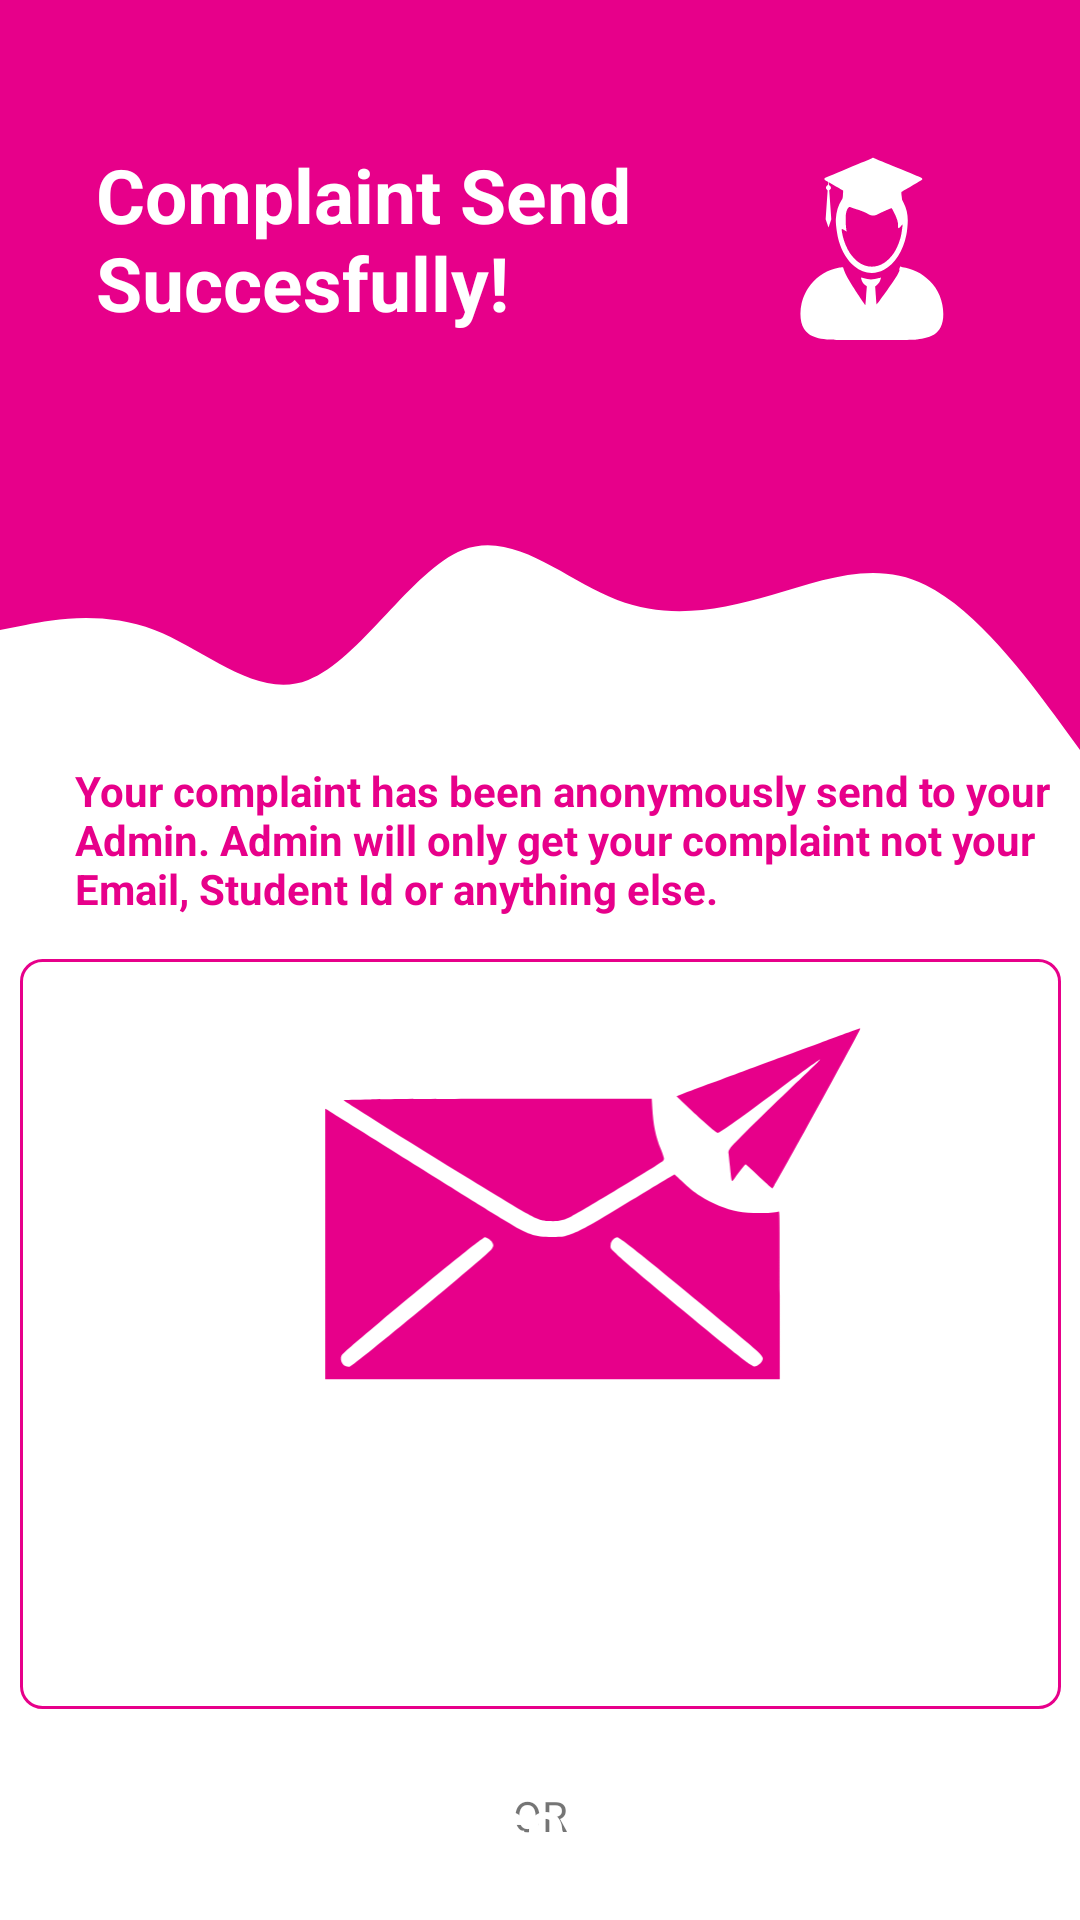

Icons on this 1080*1920 Android screen, each with its box as bbox=(x1, y1, x2, y2):
vect student login signup: bbox=(800, 157, 944, 340)
